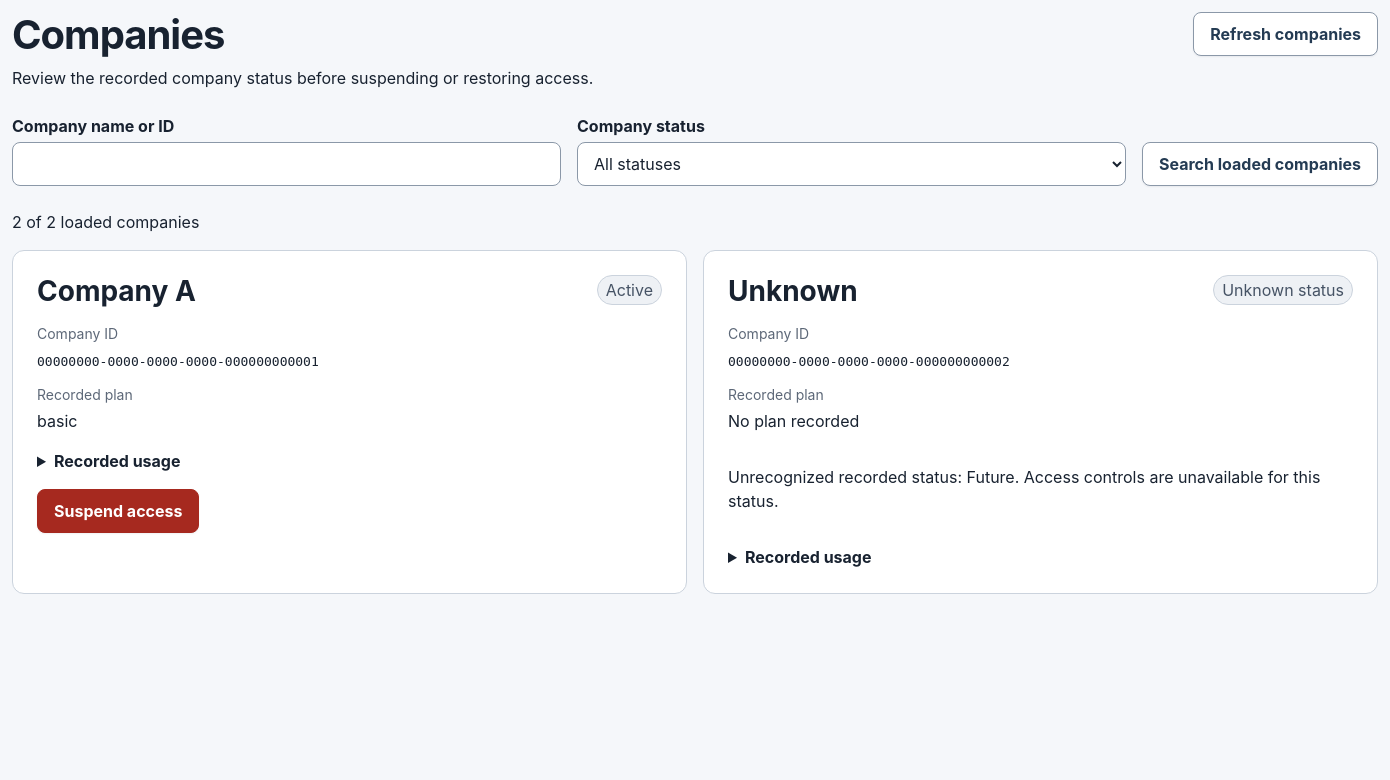
Test: preserves actual plan, unknown counts and zero without inventing defaults or controls for future statuses
The image size is (1390, 780).
Expected: the heading "Company A" is shown, x1=37 y1=274 x2=196 y2=308
Click the heading "Recorded usage" below "Company A": click(117, 461) x1=54 y1=451 x2=180 y2=471
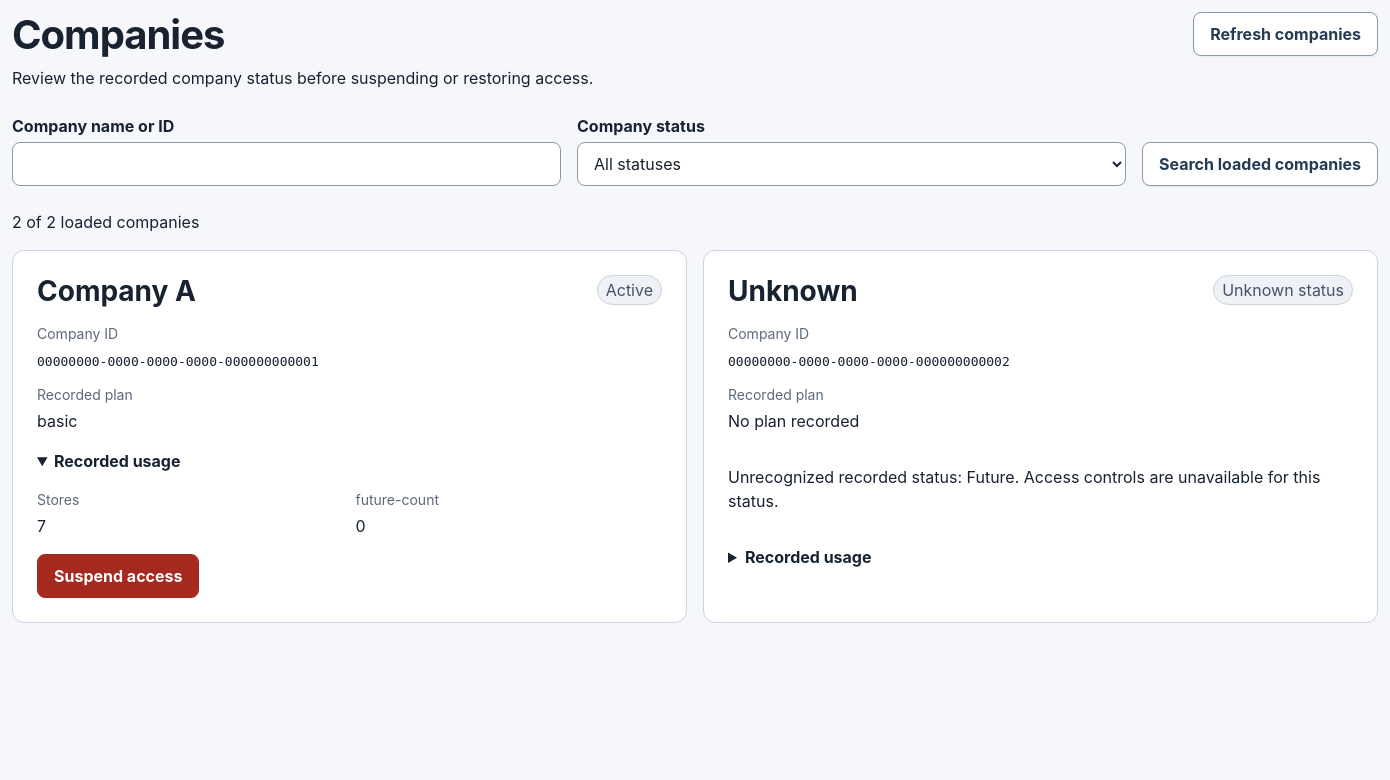
Expected: the text "basic" is shown, x1=37 y1=411 x2=77 y2=431
Expected: the text "0" is shown, x1=356 y1=516 x2=366 y2=536
Expected: the text "7" is shown, x1=37 y1=516 x2=46 y2=536
